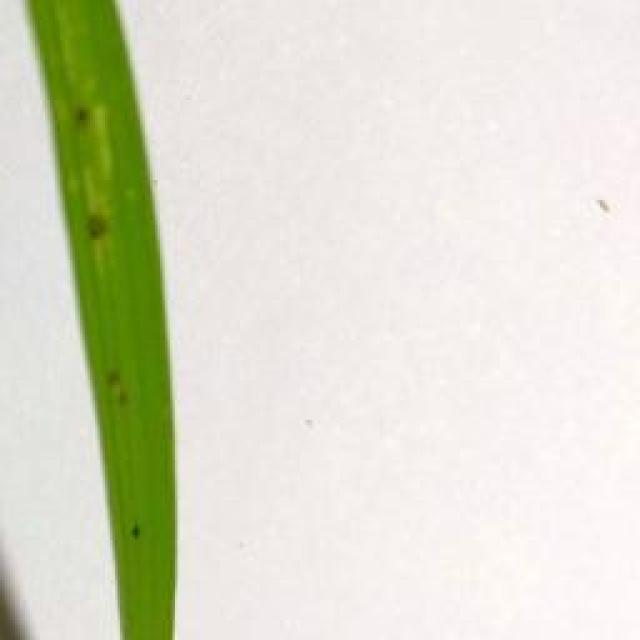Brown_Spot: (100, 361, 135, 411), (85, 204, 115, 245), (70, 101, 94, 133), (125, 517, 151, 545)
